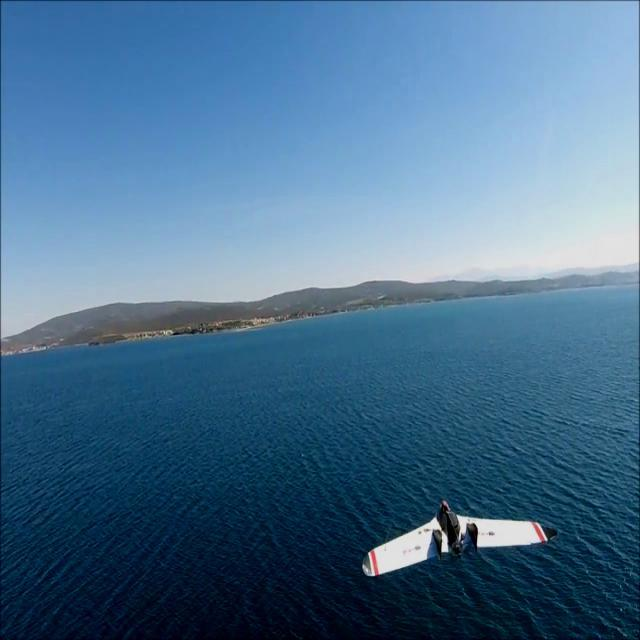iha: (350, 466, 548, 597)
